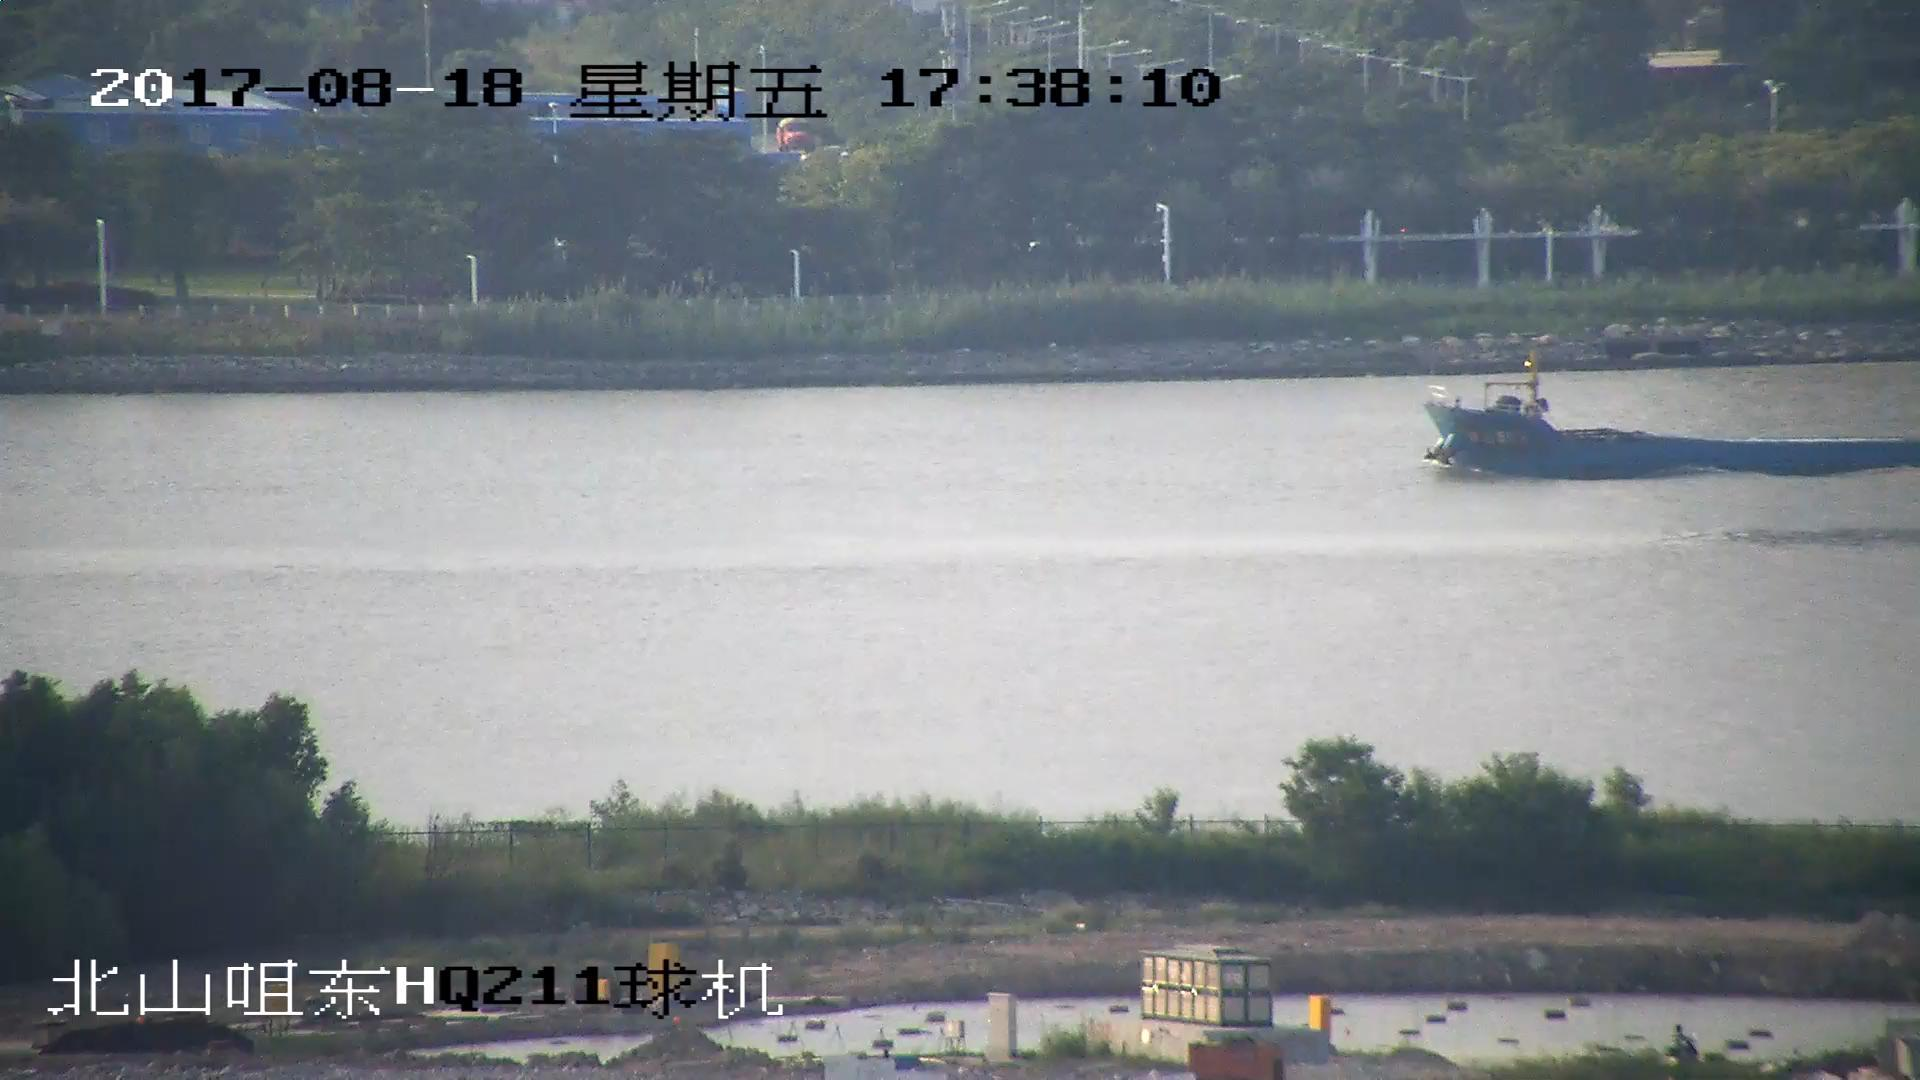Ship: (1415, 347, 1920, 480)
